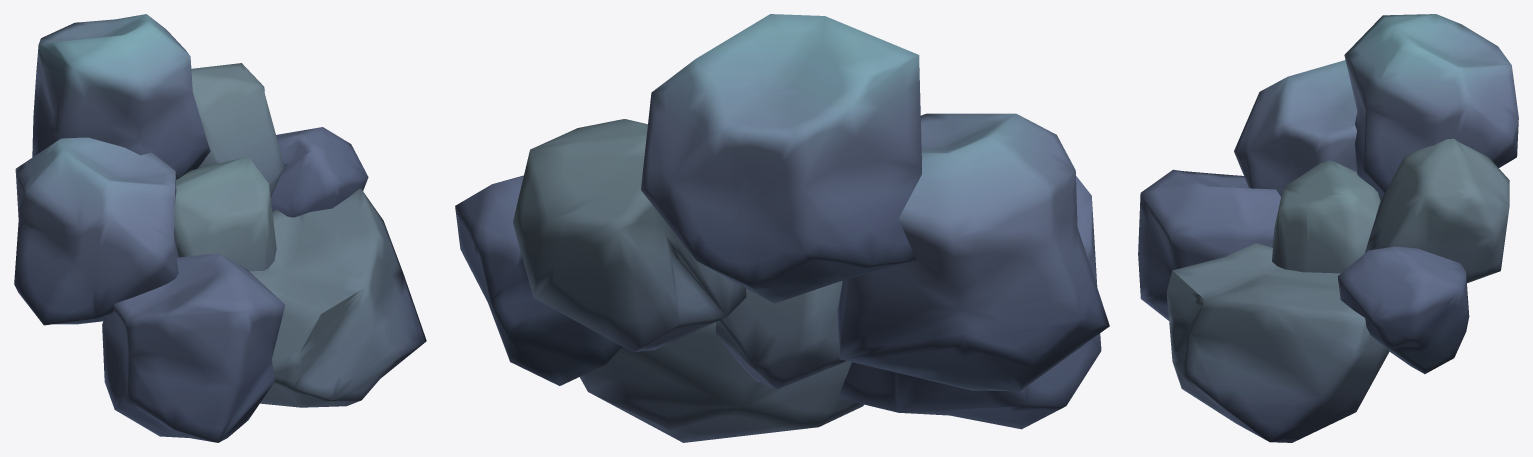
The model's file is SM_Hill_RockWall_04.fbx.
3 renders of one model, left to right at view 1: azimuth 30°, elevation 25°; view 2: azimuth 150°, elevation 25°; view 3: azimuth 270°, elevation 25°, orthographic. The views are drawn at different scales.
Visible parts, largest first — view 1: BigStone.003; view 2: BigStone.003; view 3: BigStone.003.
Boxes of the visible parts, bbox=[...] form: BigStone.003: bbox=[14, 14, 426, 442]; BigStone.003: bbox=[455, 14, 1109, 442]; BigStone.003: bbox=[1138, 14, 1518, 442].
Bounding box in the file's own units: 1711 × 1517 × 1536.
1 material, 1 textured.
